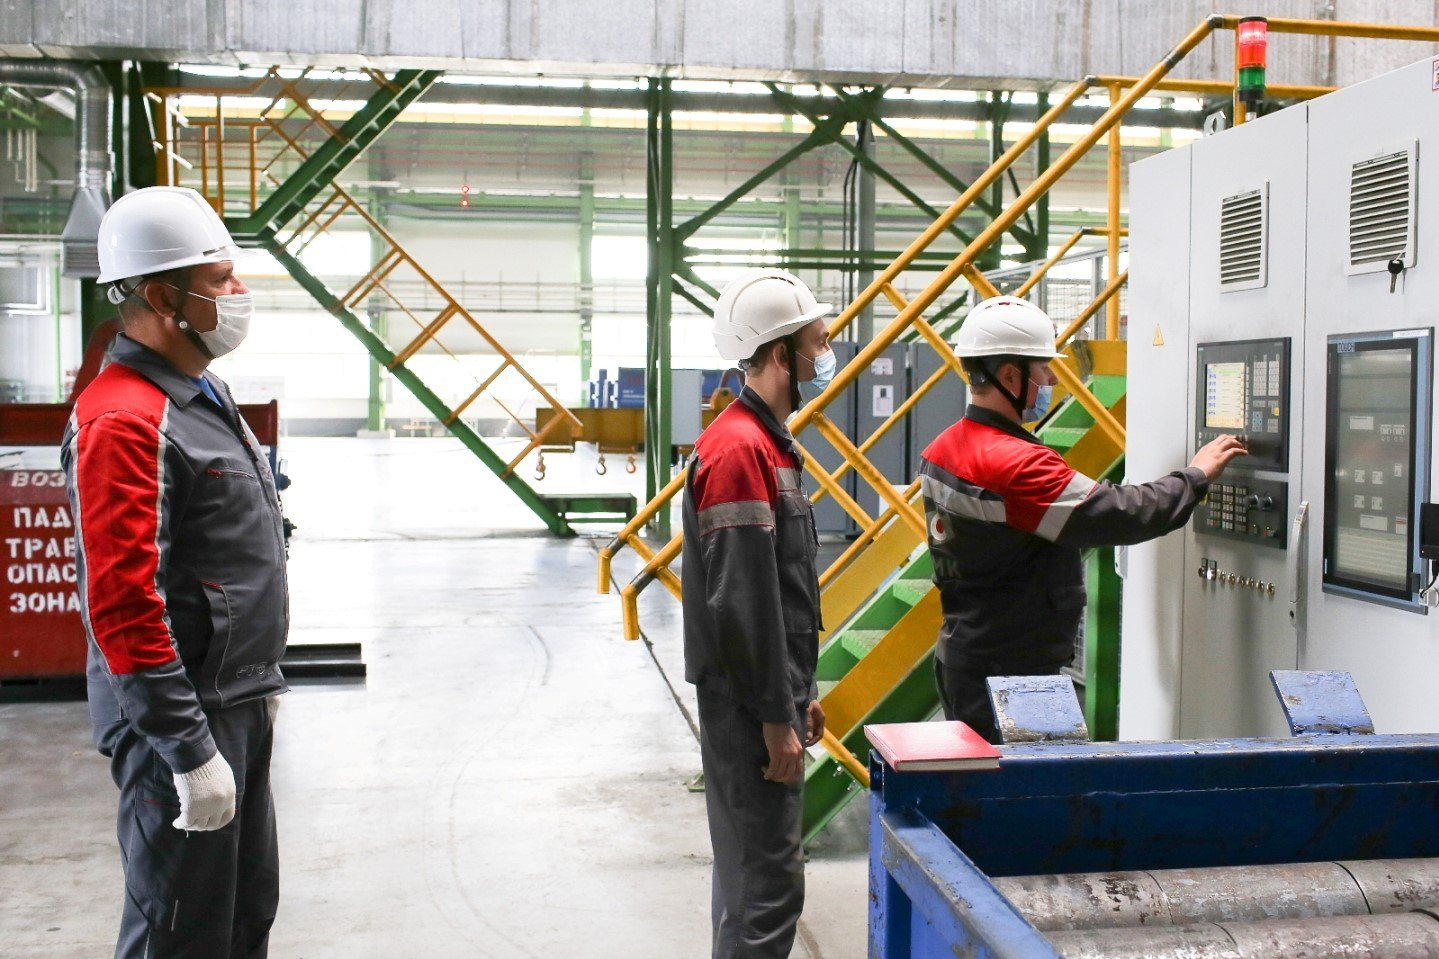person: (57, 185, 288, 959), (920, 297, 1253, 751), (681, 267, 839, 959)
